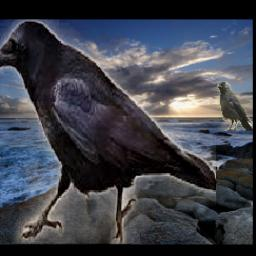Crow: (0, 19, 216, 244), (217, 82, 253, 132)
